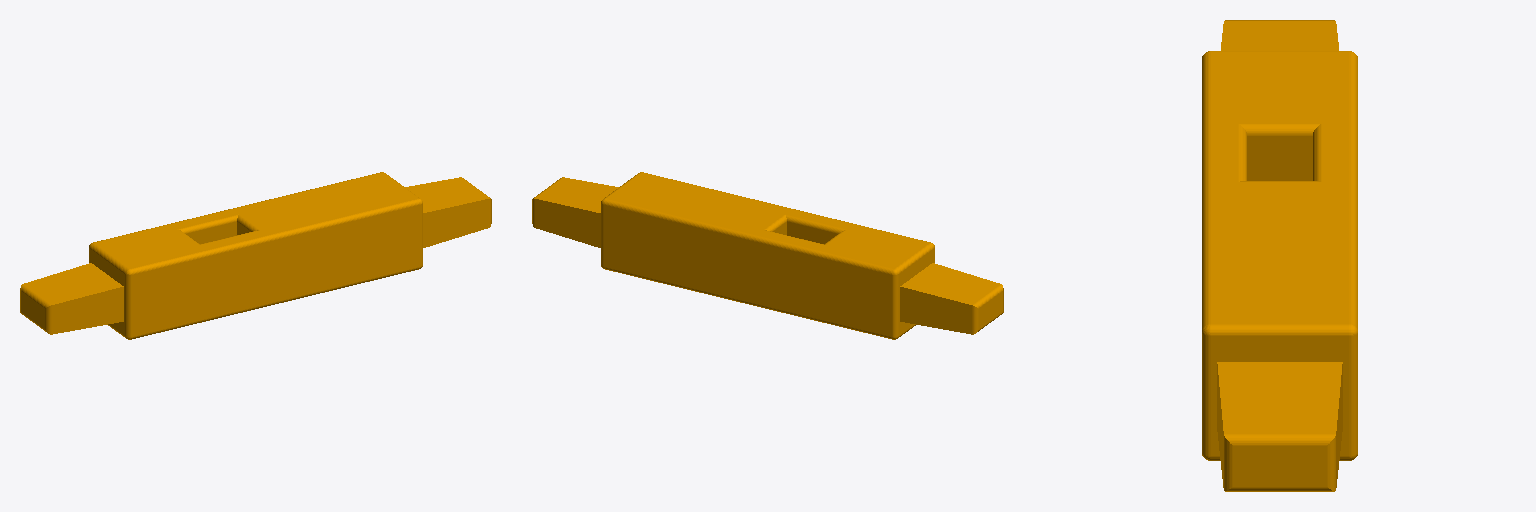
robot.urdf — beam_2_sdf:
<?xml version="1.0"?>
<robot name="beam_2_sdf">
  <link name="beam_2_sdf">
    <visual>
      <origin xyz="0 0 0" rpy="0 0 0"/>
      <geometry><mesh filename="2_canonical.obj" scale="1 1 1"/></geometry>
    </visual>
    <collision>
      <origin xyz="0 0 0" rpy="0 0 0"/>
      <geometry><mesh filename="2_canonical.obj" scale="1 1 1"/></geometry>
      <sdf resolution="512"/>
    </collision>
    <inertial><density value="1250.0"/></inertial>
  </link>
</robot>

--- What the picture shows (computed from the rendered views, not written in the file) ---
3 views of the same robot in one strip: view 1: azimuth 30°, elevation 25°; view 2: azimuth 150°, elevation 25°; view 3: azimuth 270°, elevation 25° (orthographic).
Model beam_2_sdf with 1 links and 0 joints (none), rooted at beam_2_sdf, posed every joint at zero.
Visible links, largest first — view 1: beam_2_sdf; view 2: beam_2_sdf; view 3: beam_2_sdf.
Link boxes in pixels (x1=…): beam_2_sdf: x1=20, y1=172, x2=491, y2=339; beam_2_sdf: x1=532, y1=172, x2=1003, y2=339; beam_2_sdf: x1=1202, y1=20, x2=1357, y2=491.
Size in the robot's own frame: 0.2286 by 0.036 by 0.0345 metres.
Meshes: 1 distinct files referenced, 1 mesh visuals loaded (1 OBJ).
